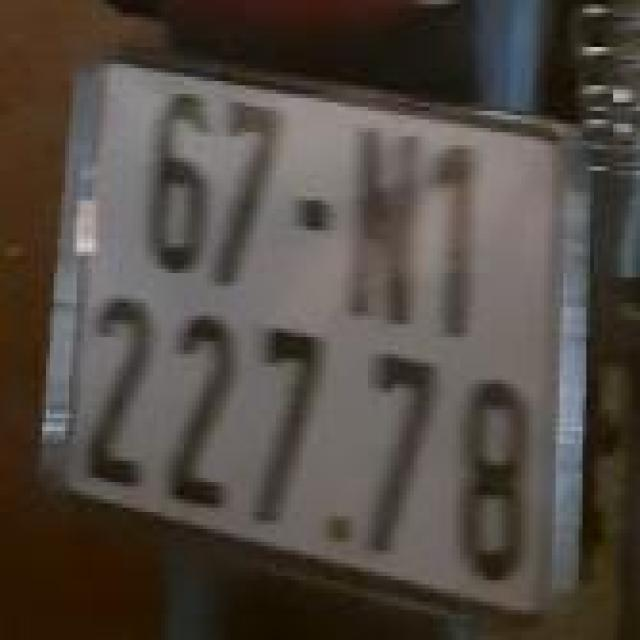1: (423, 126, 492, 348)
2: (161, 303, 245, 516), (81, 288, 157, 497)
6: (131, 82, 221, 290)
7: (352, 343, 448, 570), (245, 318, 334, 535), (207, 91, 290, 298)
8: (454, 369, 539, 595)
H: (335, 118, 424, 334)
